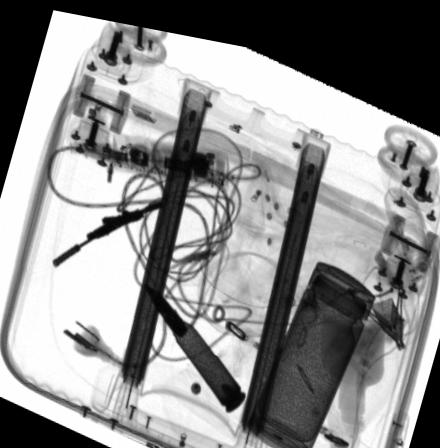Bullet: (142, 277, 246, 404)
Gun: (51, 191, 166, 264)
